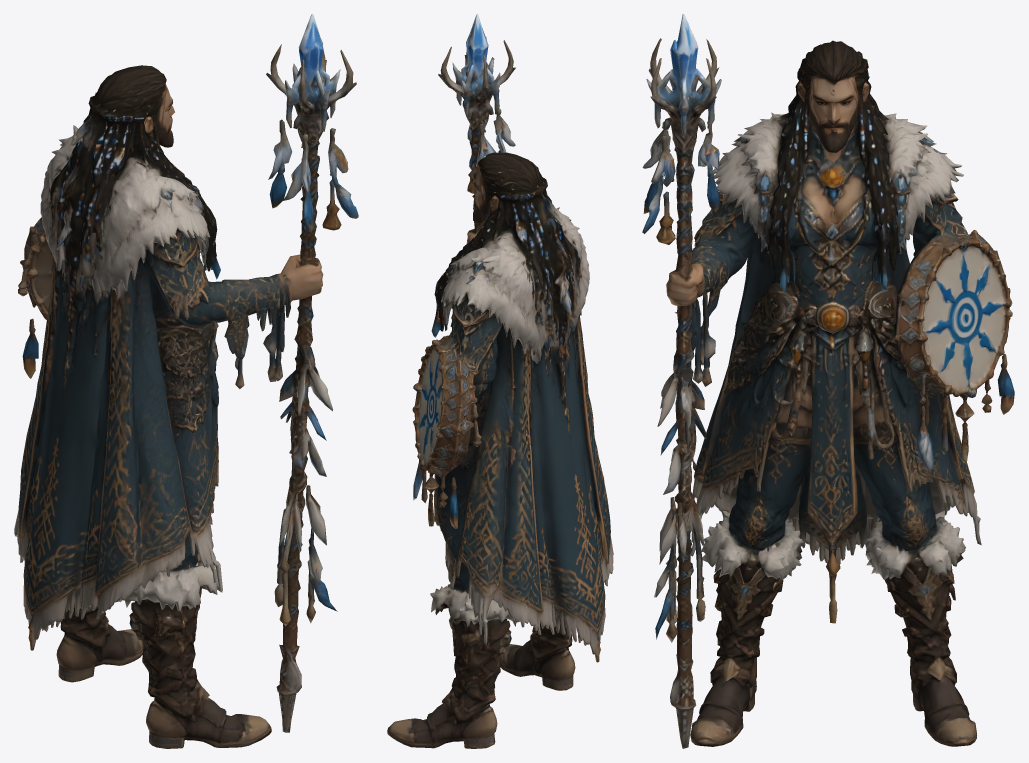
The model's file is drumcalleralt-AmberRoad-tripo.glb.
3 views of the same model, side by side, from view 1: azimuth 30°, elevation 25°; view 2: azimuth 150°, elevation 25°; view 3: azimuth 270°, elevation 25° (orthographic). The views are drawn at different scales.
Visible parts, largest first — view 1: tripo_node_984e45c2-6454-48f9-b8e7-ea502d8cc2f2; view 2: tripo_node_984e45c2-6454-48f9-b8e7-ea502d8cc2f2; view 3: tripo_node_984e45c2-6454-48f9-b8e7-ea502d8cc2f2.
Boxes of the visible parts, x1,y1,x2,y2 form: tripo_node_984e45c2-6454-48f9-b8e7-ea502d8cc2f2: (14, 14, 358, 748); tripo_node_984e45c2-6454-48f9-b8e7-ea502d8cc2f2: (387, 14, 613, 748); tripo_node_984e45c2-6454-48f9-b8e7-ea502d8cc2f2: (642, 14, 1014, 748).
Size of the model in its own units: 0.3513 by 1 by 0.4472.
Materials: 1 (1 with a texture image).
